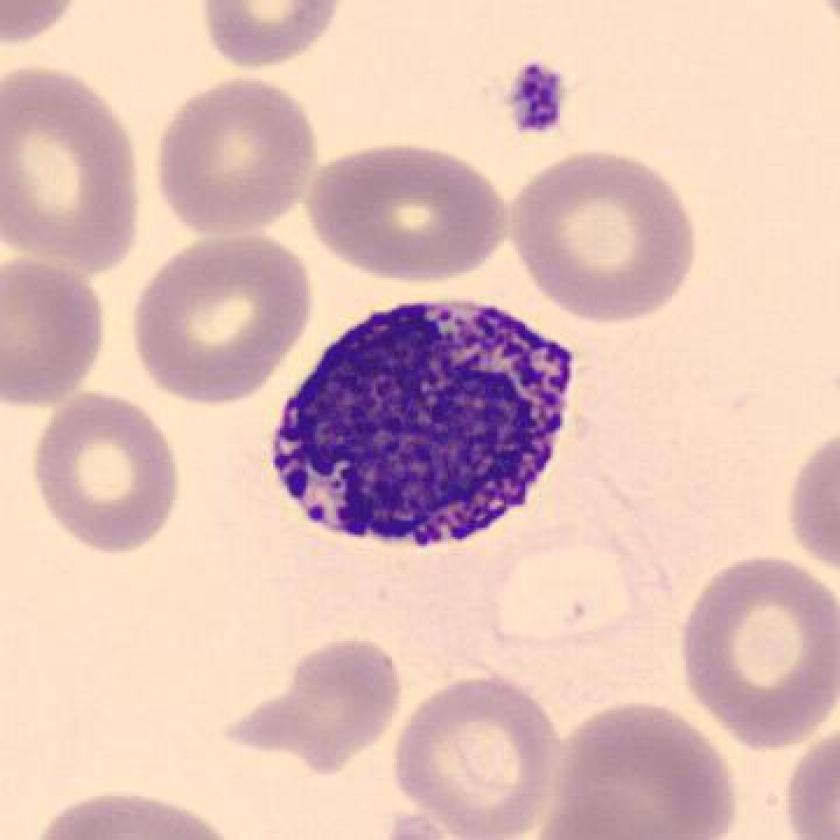basophil: (270, 279, 585, 552)
